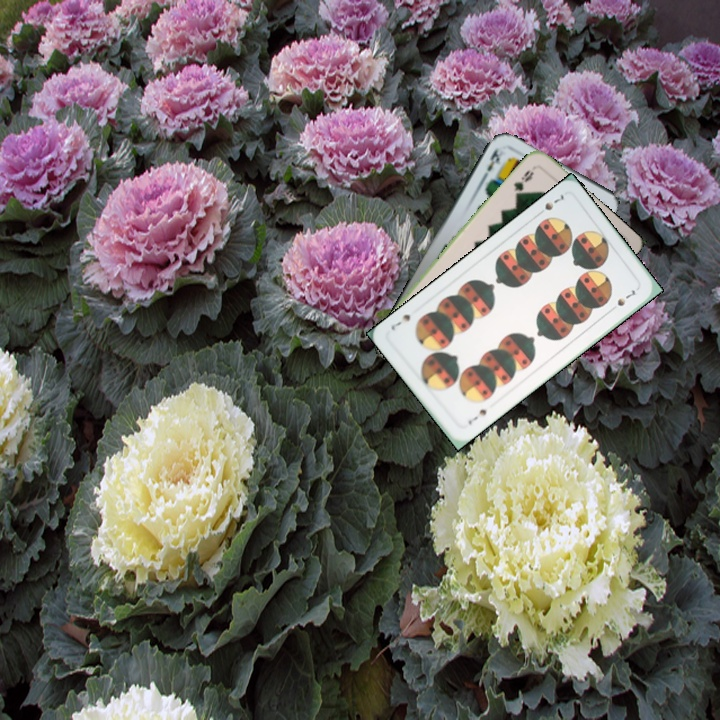EK: (478, 145, 502, 182)
G9: (509, 166, 536, 199)
S7: (540, 191, 568, 213), (464, 405, 489, 428)
